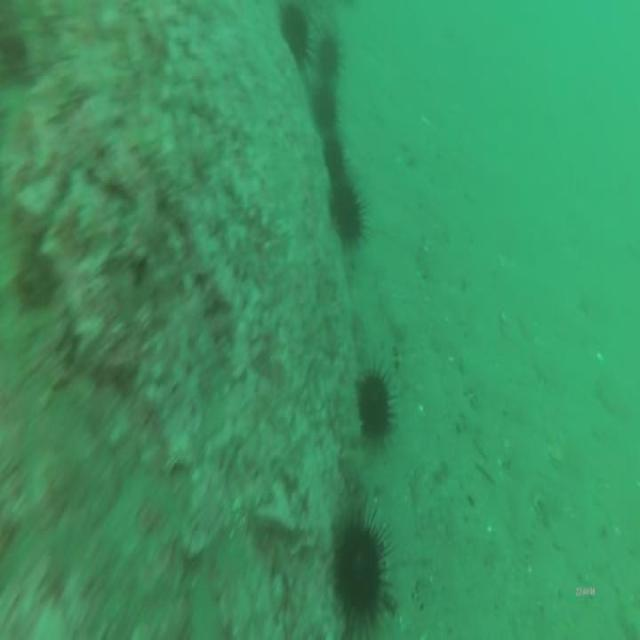echinus: (327, 508, 395, 636), (353, 351, 400, 447), (324, 176, 366, 252), (279, 3, 311, 71), (308, 79, 339, 144), (320, 133, 348, 185), (313, 35, 339, 84)
